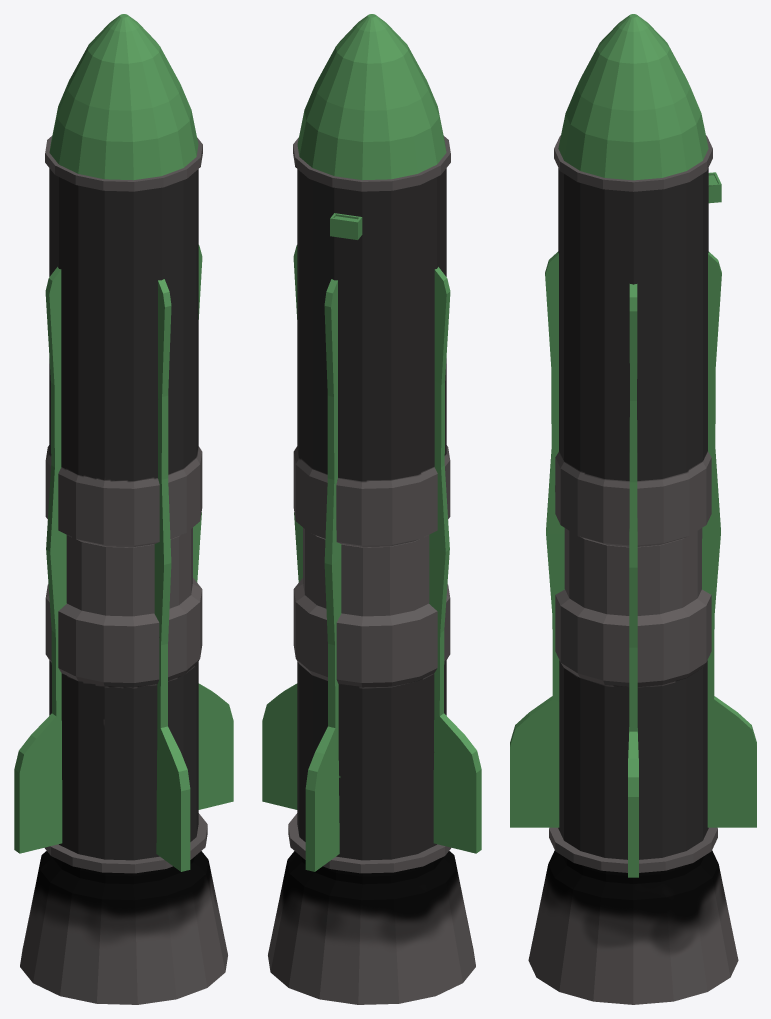
File: missileLV3.fbx
3 views of the same model, side by side, from view 1: azimuth 30°, elevation 25°; view 2: azimuth 150°, elevation 25°; view 3: azimuth 270°, elevation 25° (orthographic).
Visible parts, largest first — view 1: r3; view 2: r3; view 3: r3.
Part boxes in pixels (x1,y1,x2,y2): r3: (14,14,233,1004); r3: (262,14,481,1004); r3: (510,14,756,1004).
Bounding box in the file's own units: 449 × 1895 × 449.
Materials: 1 (1 with a texture image).
